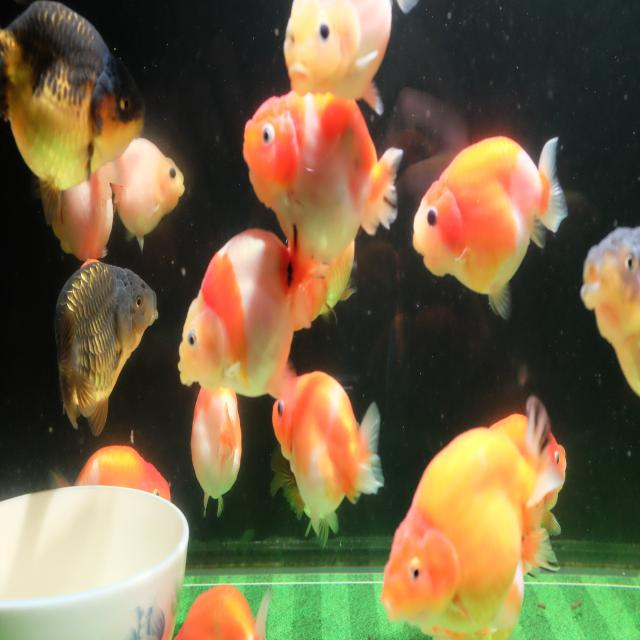Tilapia: (380, 393, 564, 634), (0, 0, 147, 230), (411, 133, 568, 322), (241, 91, 403, 272), (176, 220, 330, 402), (51, 262, 160, 442), (272, 370, 384, 536), (279, 0, 421, 118), (580, 222, 640, 402), (109, 134, 186, 253), (48, 443, 172, 501), (190, 387, 242, 522), (51, 166, 112, 265)
